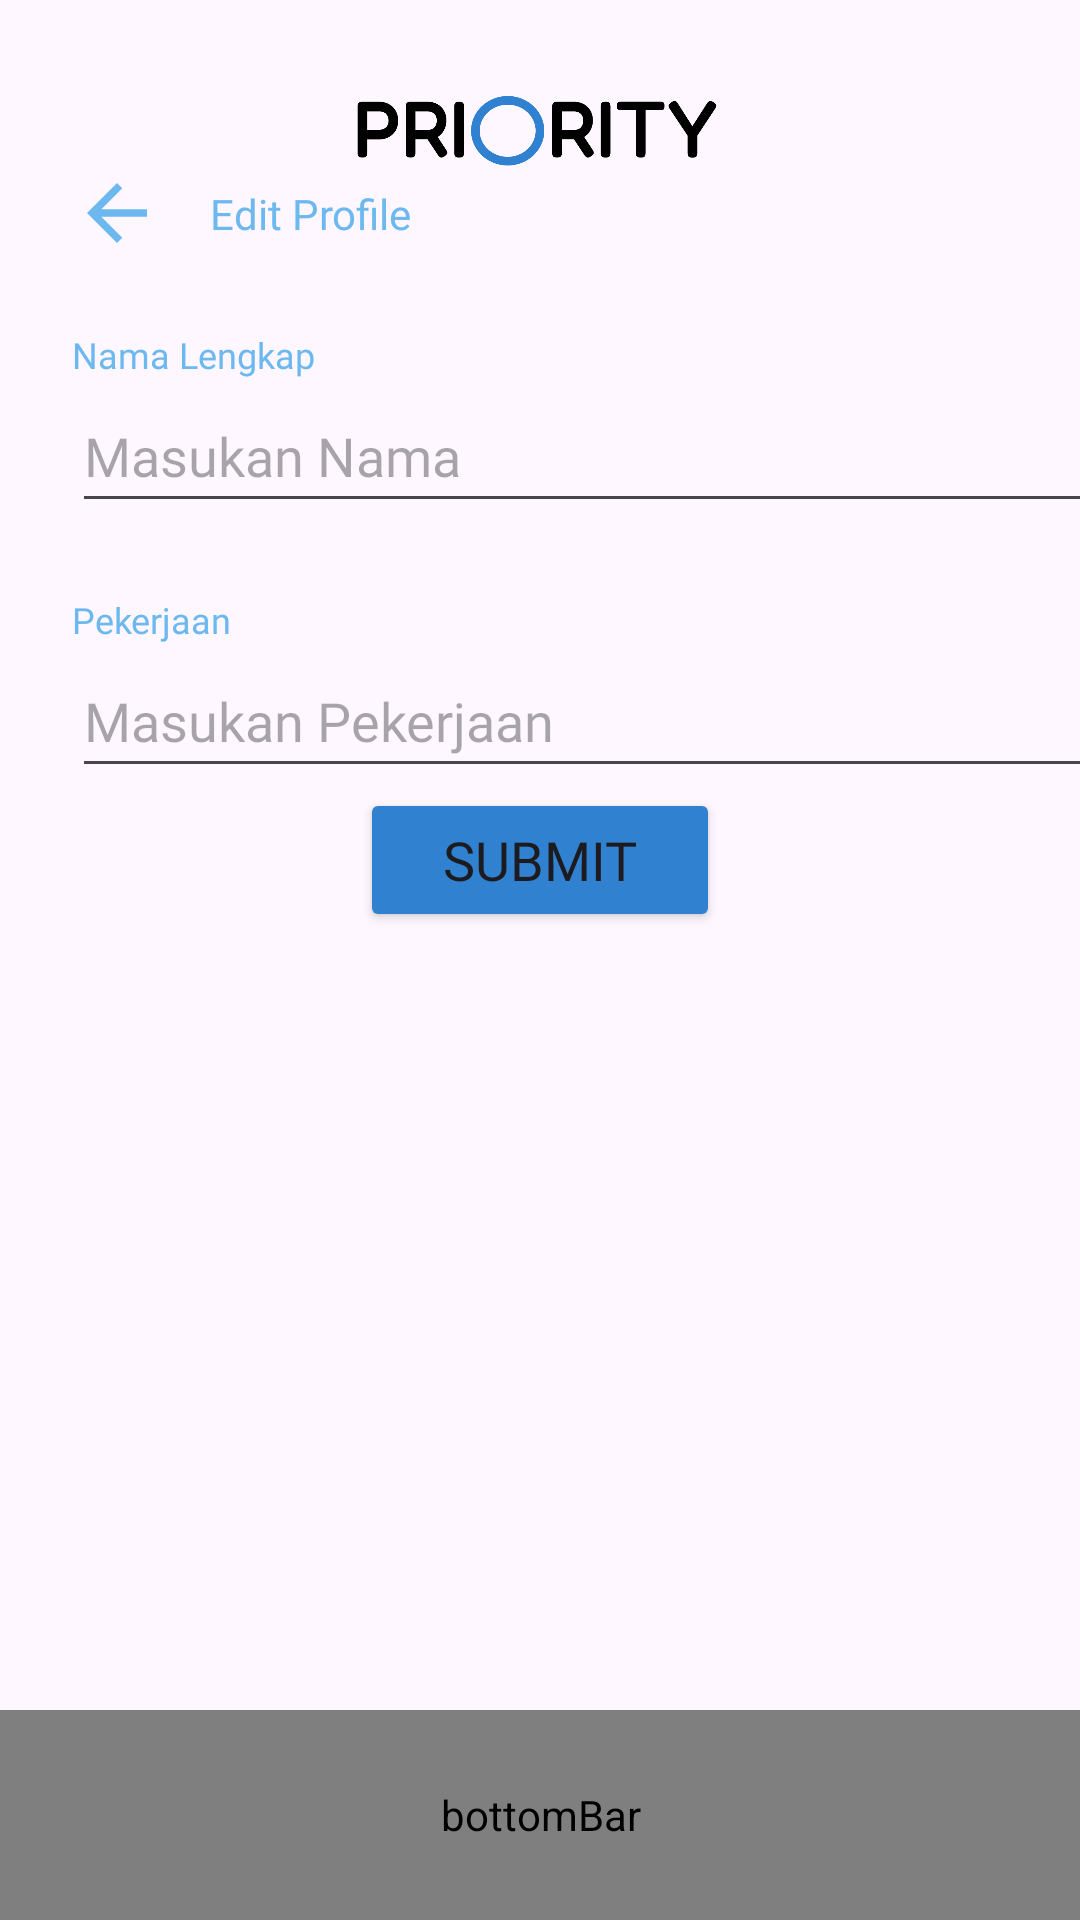

Where to tap for icons on this 1080px x 1920px app screen, as point (x, y):
arrow back: point (117, 213)
